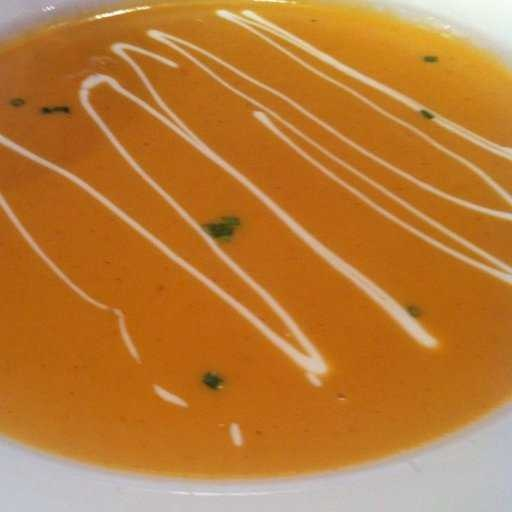soup: (1, 2, 505, 486)
